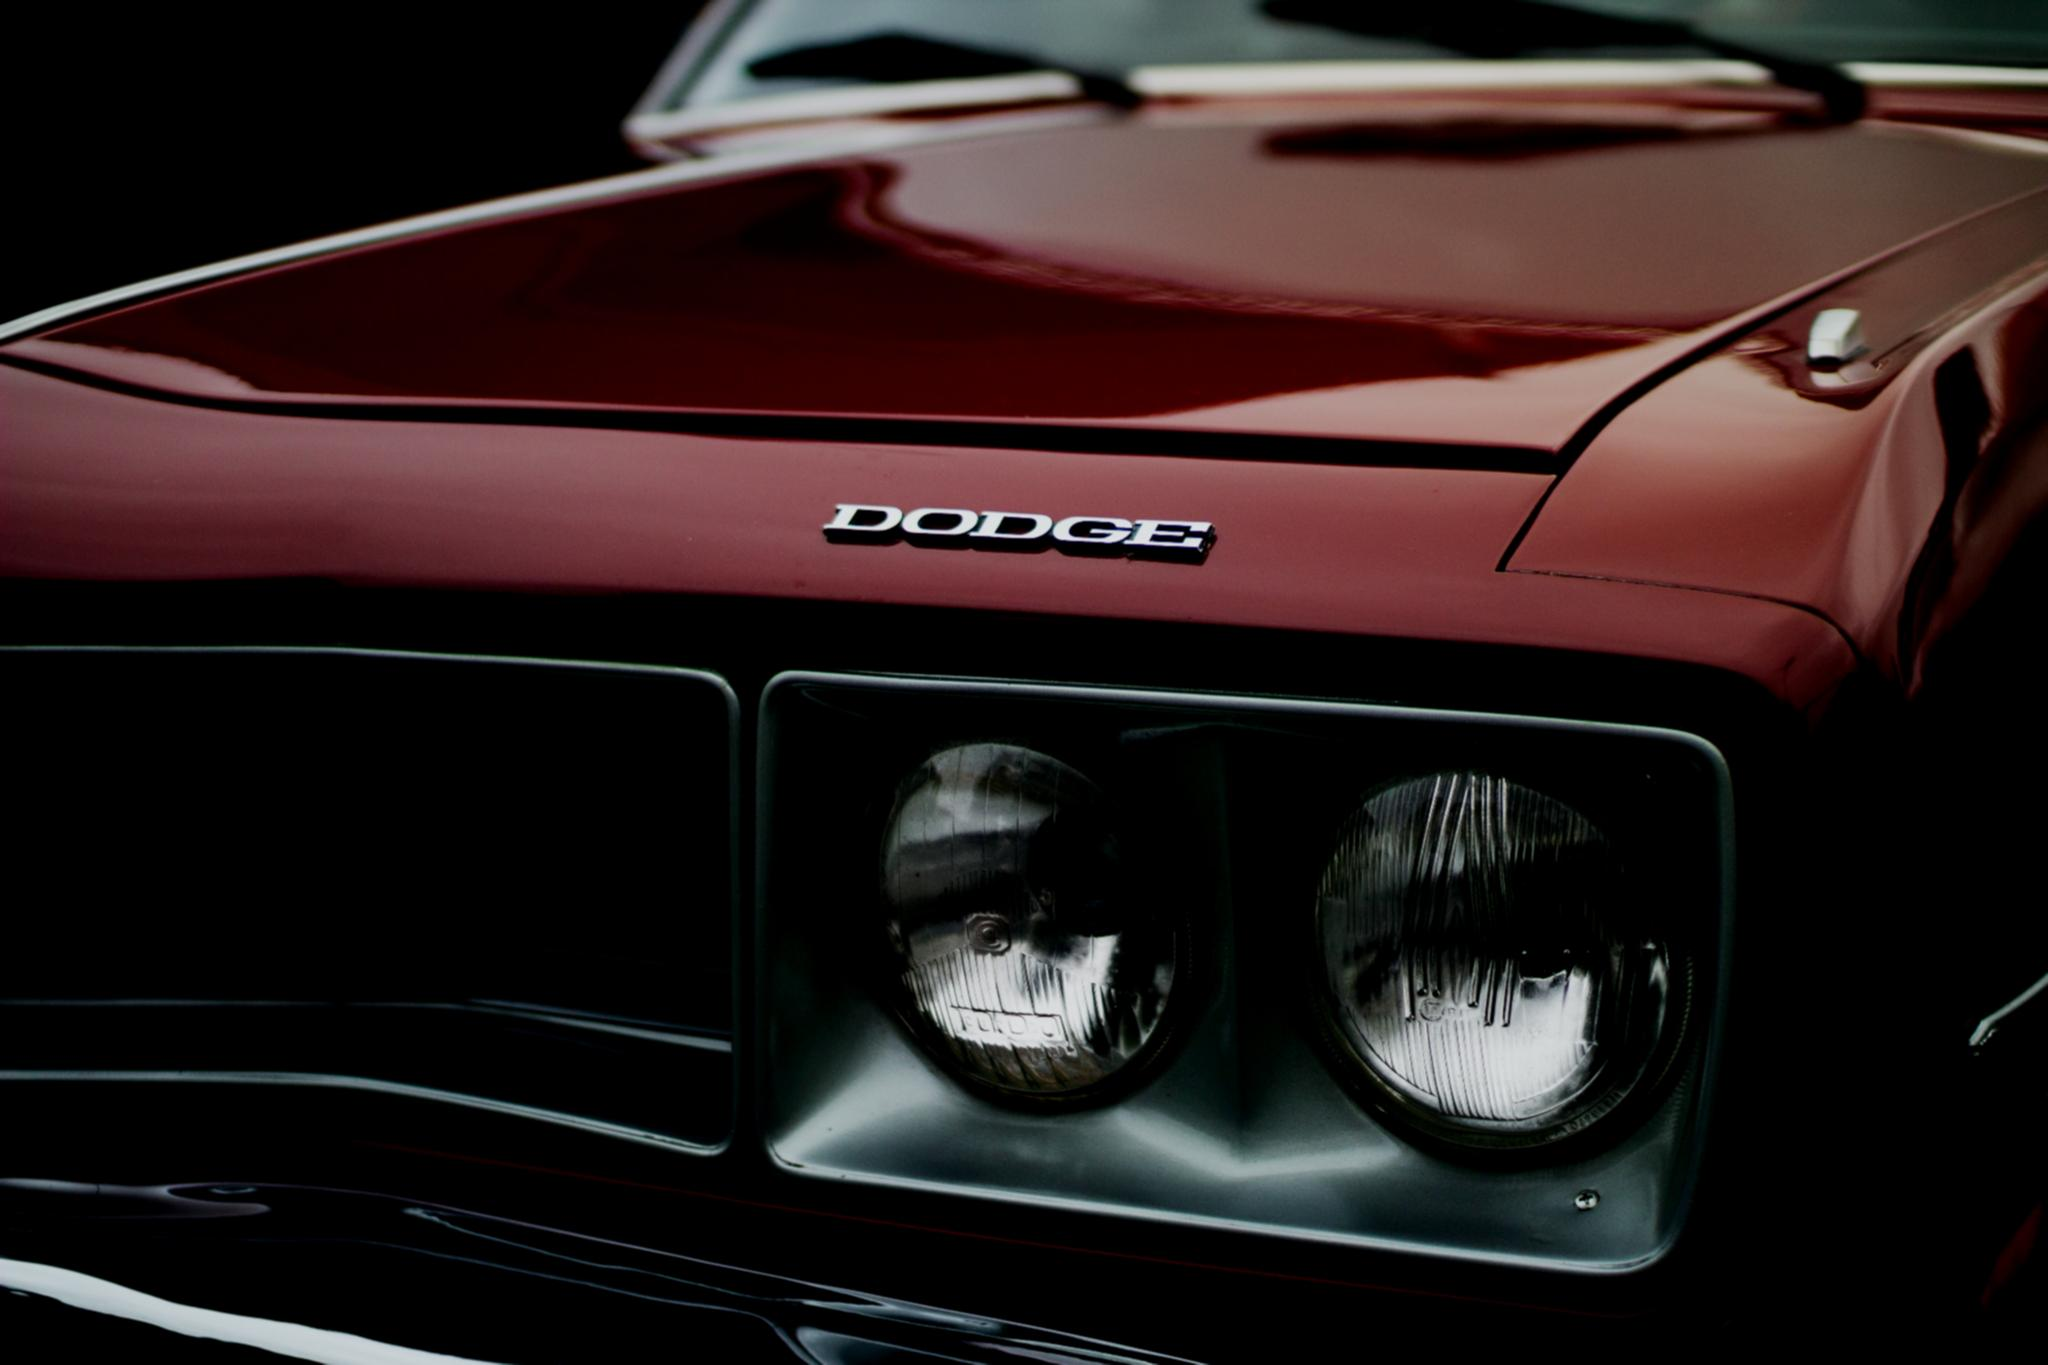dodge: (790, 456, 1262, 631)
